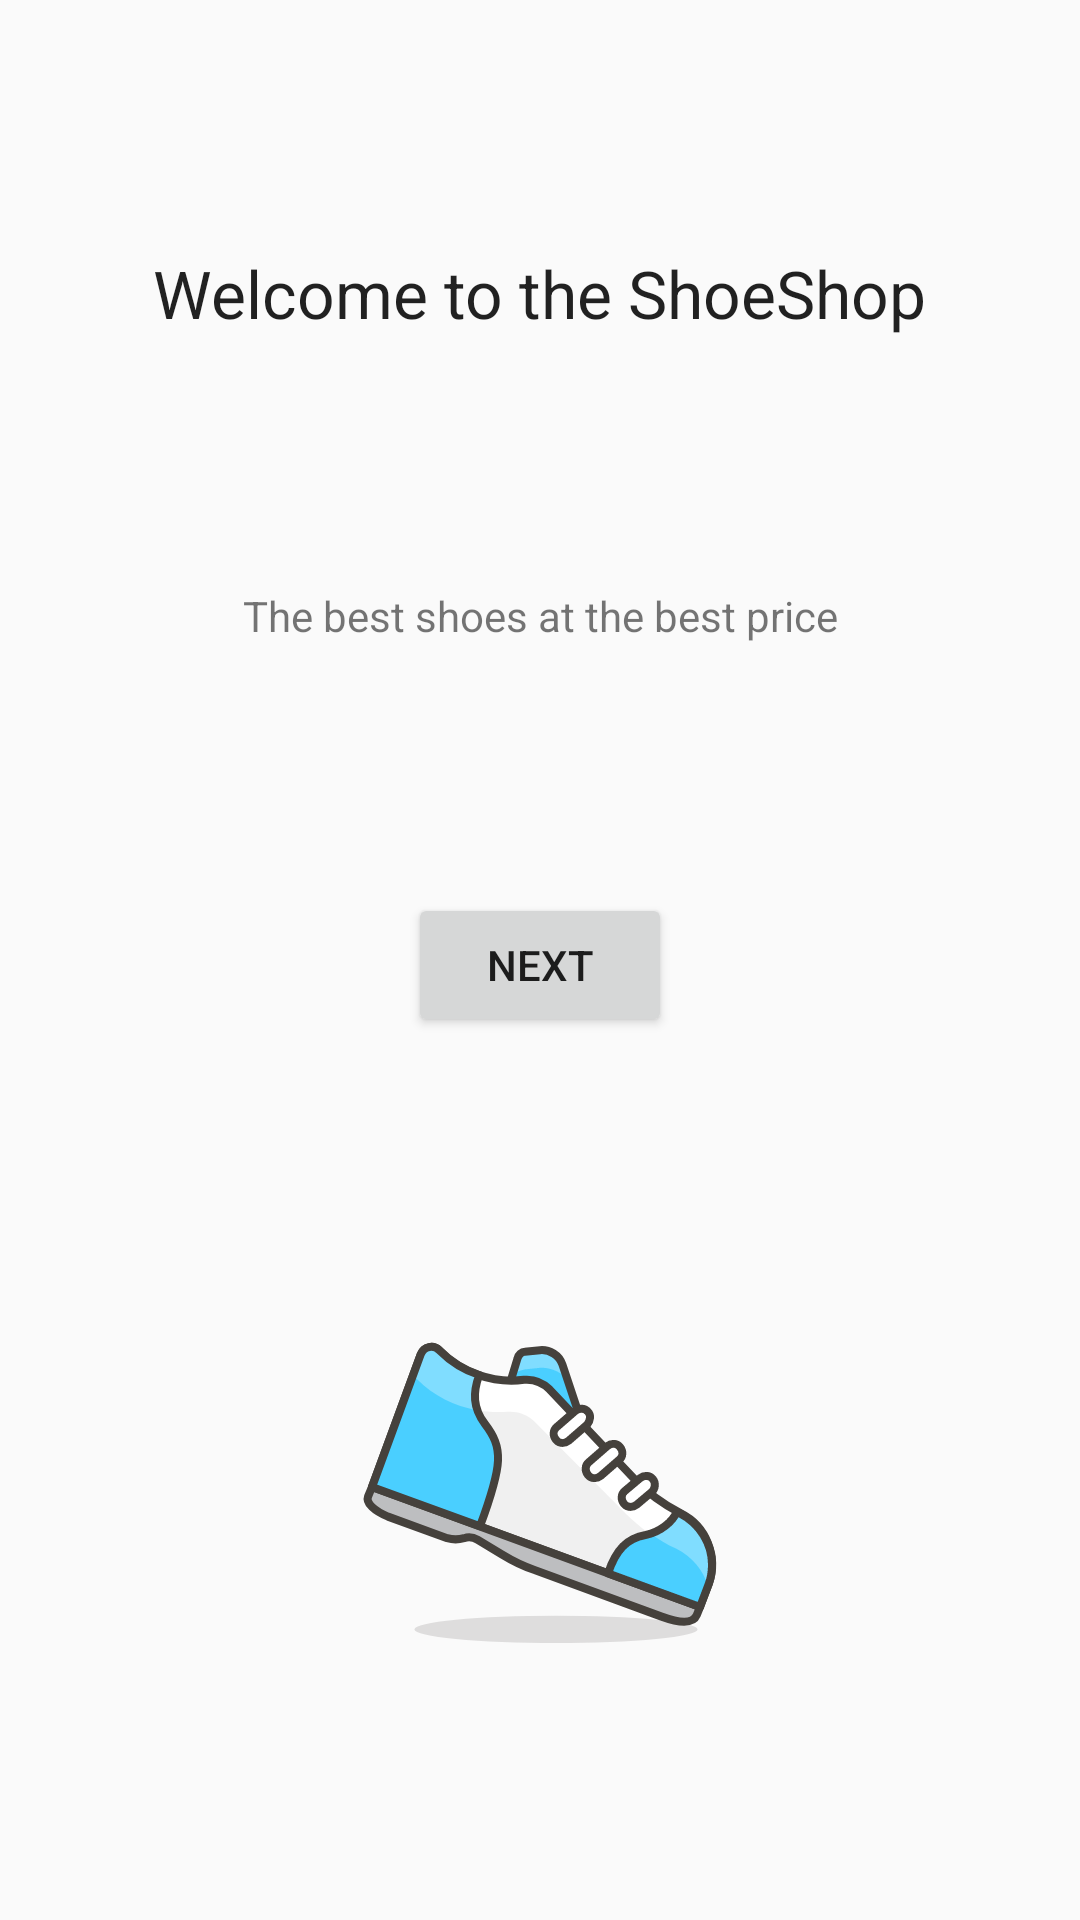

Screen size 1080w x 1920h. Icon name, then its center in pixels as (x,y):
Shoe image: (540,1492)
